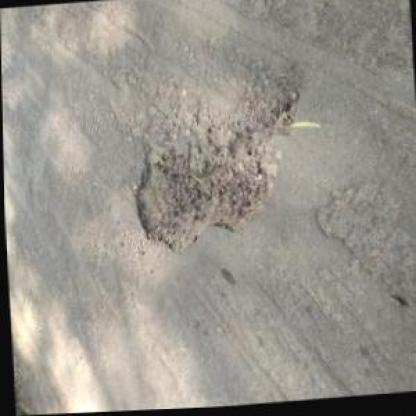pothole: (129, 128, 281, 259)
